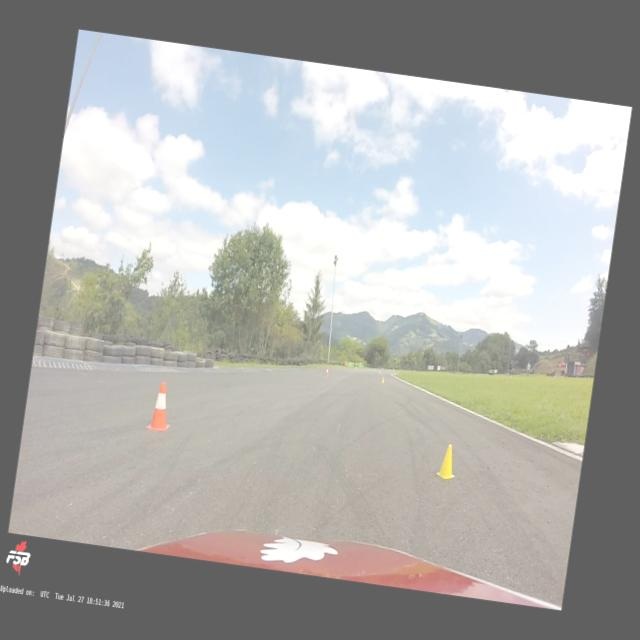orange_cone: (146, 381, 176, 432), (326, 368, 330, 376)
unknown_cone: (436, 442, 458, 480), (382, 377, 384, 384)
